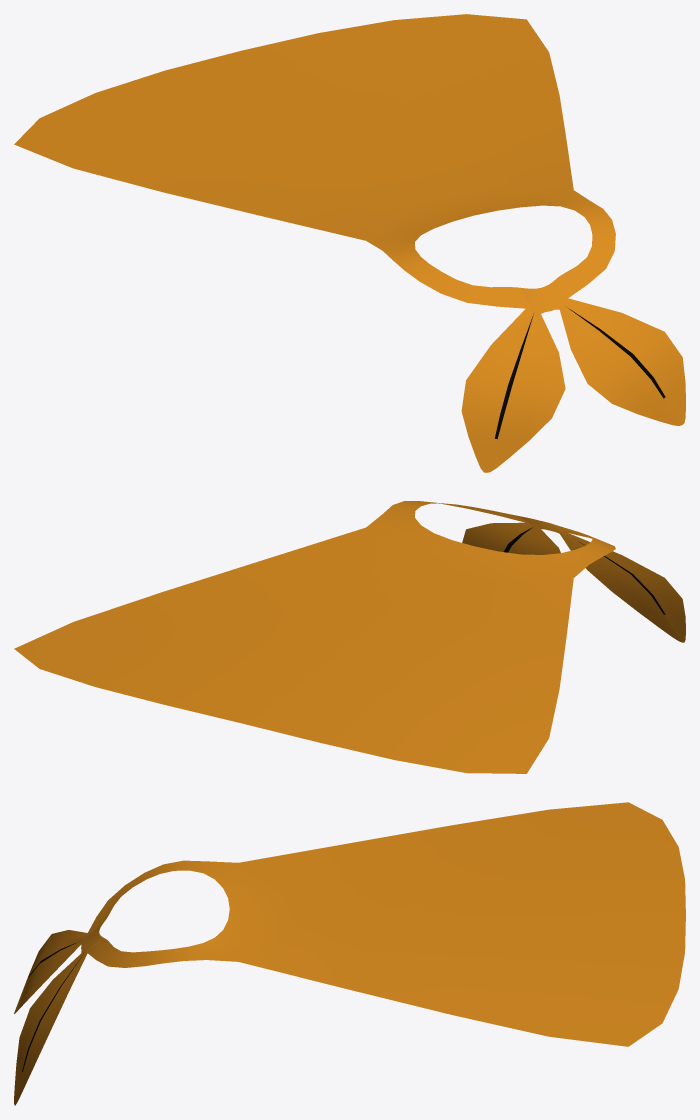
The model's file is noisecape.fbx.
3 views of the same model, one above another, from view 1: azimuth 30°, elevation 25°; view 2: azimuth 150°, elevation 25°; view 3: azimuth 270°, elevation 25° (orthographic). The views are drawn at different scales.
Parts seen in each view (by area): view 1: Noise.001; view 2: Noise.001; view 3: Noise.001.
Part boxes in pixels (x1,y1,x2,y2): Noise.001: [14, 14, 685, 472]; Noise.001: [14, 501, 685, 773]; Noise.001: [14, 802, 685, 1105].
Bounding box in the file's own units: 109 × 31.19 × 126.
